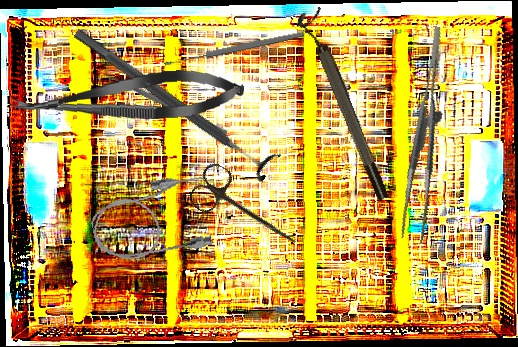Cannula: (85, 170, 221, 269)
Fixation Ring: (65, 17, 283, 184), (294, 6, 393, 206)
Iris Scissors: (185, 159, 310, 262)
Micro Scissor: (8, 65, 246, 130)
Pusher: (104, 71, 229, 137)
Surgical Spoon: (163, 30, 305, 68)
Tissue Forceps: (380, 26, 477, 243)
